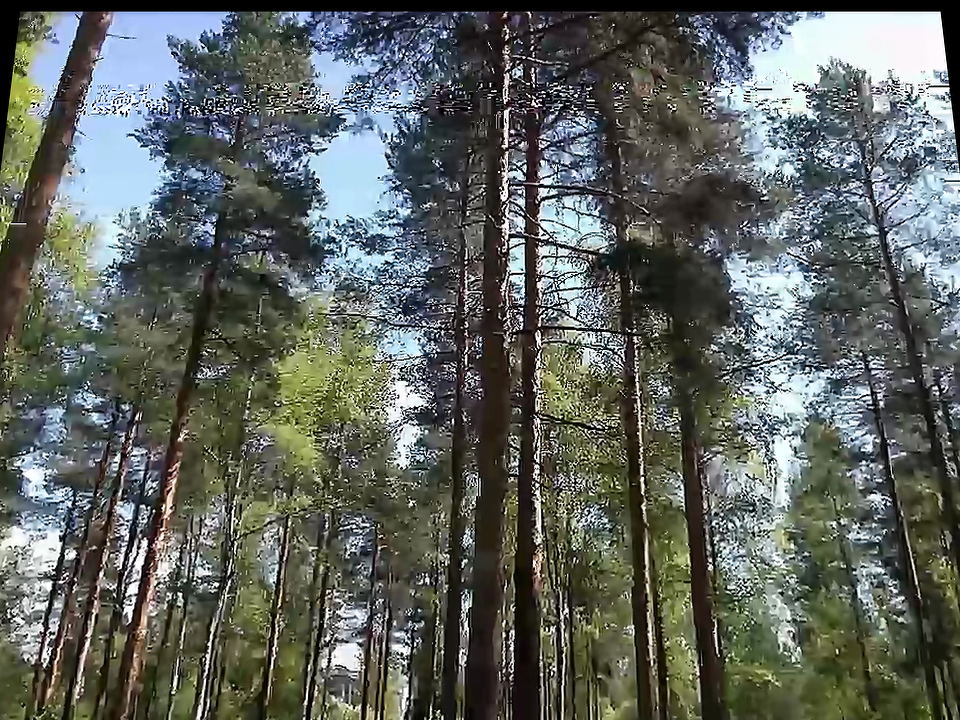branch: (513, 169, 663, 229), (508, 216, 632, 271), (516, 314, 662, 345), (538, 403, 600, 439), (367, 343, 443, 371), (527, 173, 599, 198), (567, 175, 629, 204), (233, 512, 278, 544), (376, 317, 447, 333)
trunk: (600, 124, 674, 716), (473, 27, 526, 709)
